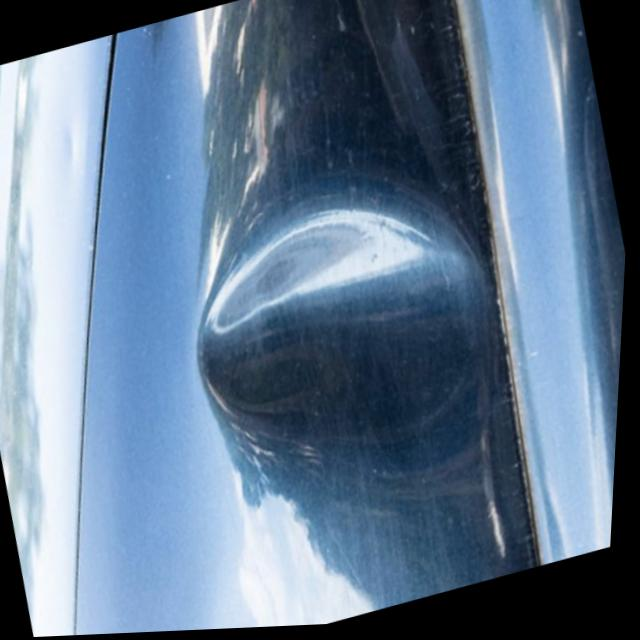Dent: (187, 183, 494, 477)
